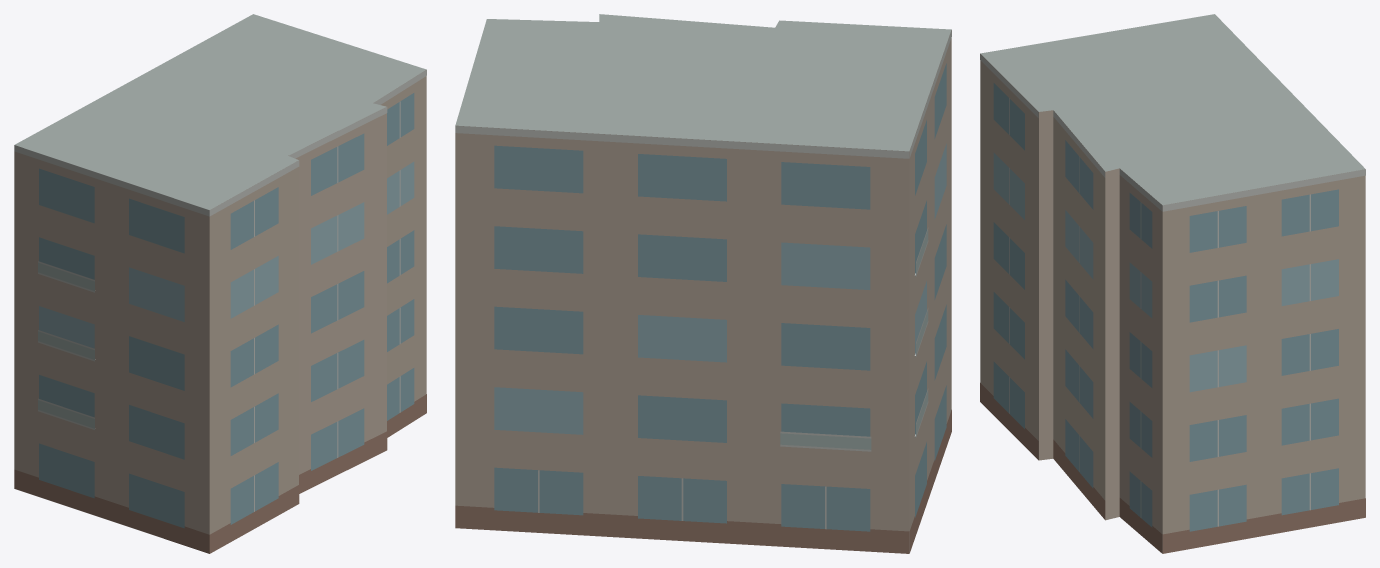
File: survey-upis-32845604.glb
3 views of the same model, side by side, from view 1: azimuth 30°, elevation 25°; view 2: azimuth 150°, elevation 25°; view 3: azimuth 270°, elevation 25° (orthographic). The views are drawn at different scales.
Visible parts, largest first — view 1: survey-upis-32845604.tmp; view 2: survey-upis-32845604.tmp; view 3: survey-upis-32845604.tmp.
Boxes of the visible parts, <box> form: survey-upis-32845604.tmp: <box>14,14,426,553</box>; survey-upis-32845604.tmp: <box>455,14,951,553</box>; survey-upis-32845604.tmp: <box>980,14,1365,553</box>.
Size of the model in its own units: 15.55 by 13.2 by 13.25.
